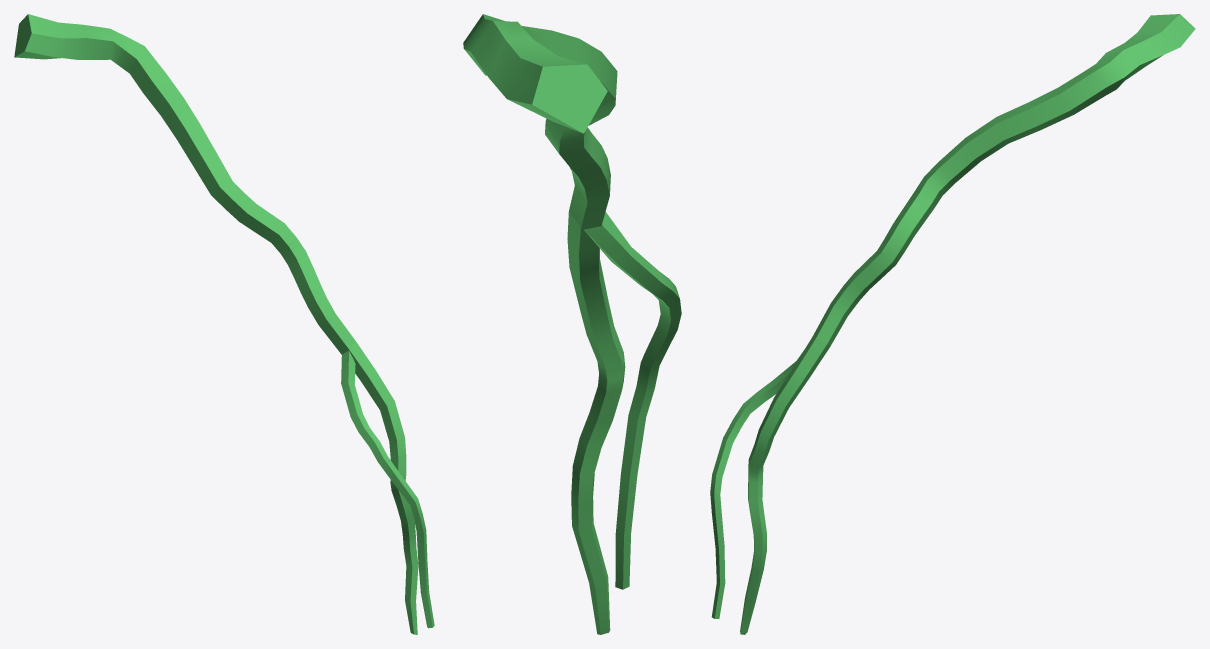
File: roots_solo_C_C.fbx
The picture shows the model from 3 angles, left to right: view 1: azimuth 30°, elevation 25°; view 2: azimuth 150°, elevation 25°; view 3: azimuth 270°, elevation 25°; orthographic projection. The views are drawn at different scales.
Parts seen in each view (by area): view 1: roots_solo_C_C; view 2: roots_solo_C_C; view 3: roots_solo_C_C.
Part boxes in pixels (x1,y1,x2,y2): roots_solo_C_C: (14, 14, 434, 634); roots_solo_C_C: (463, 14, 681, 634); roots_solo_C_C: (710, 14, 1195, 634).
Bounding box in the file's own units: 146 × 345 × 287.
